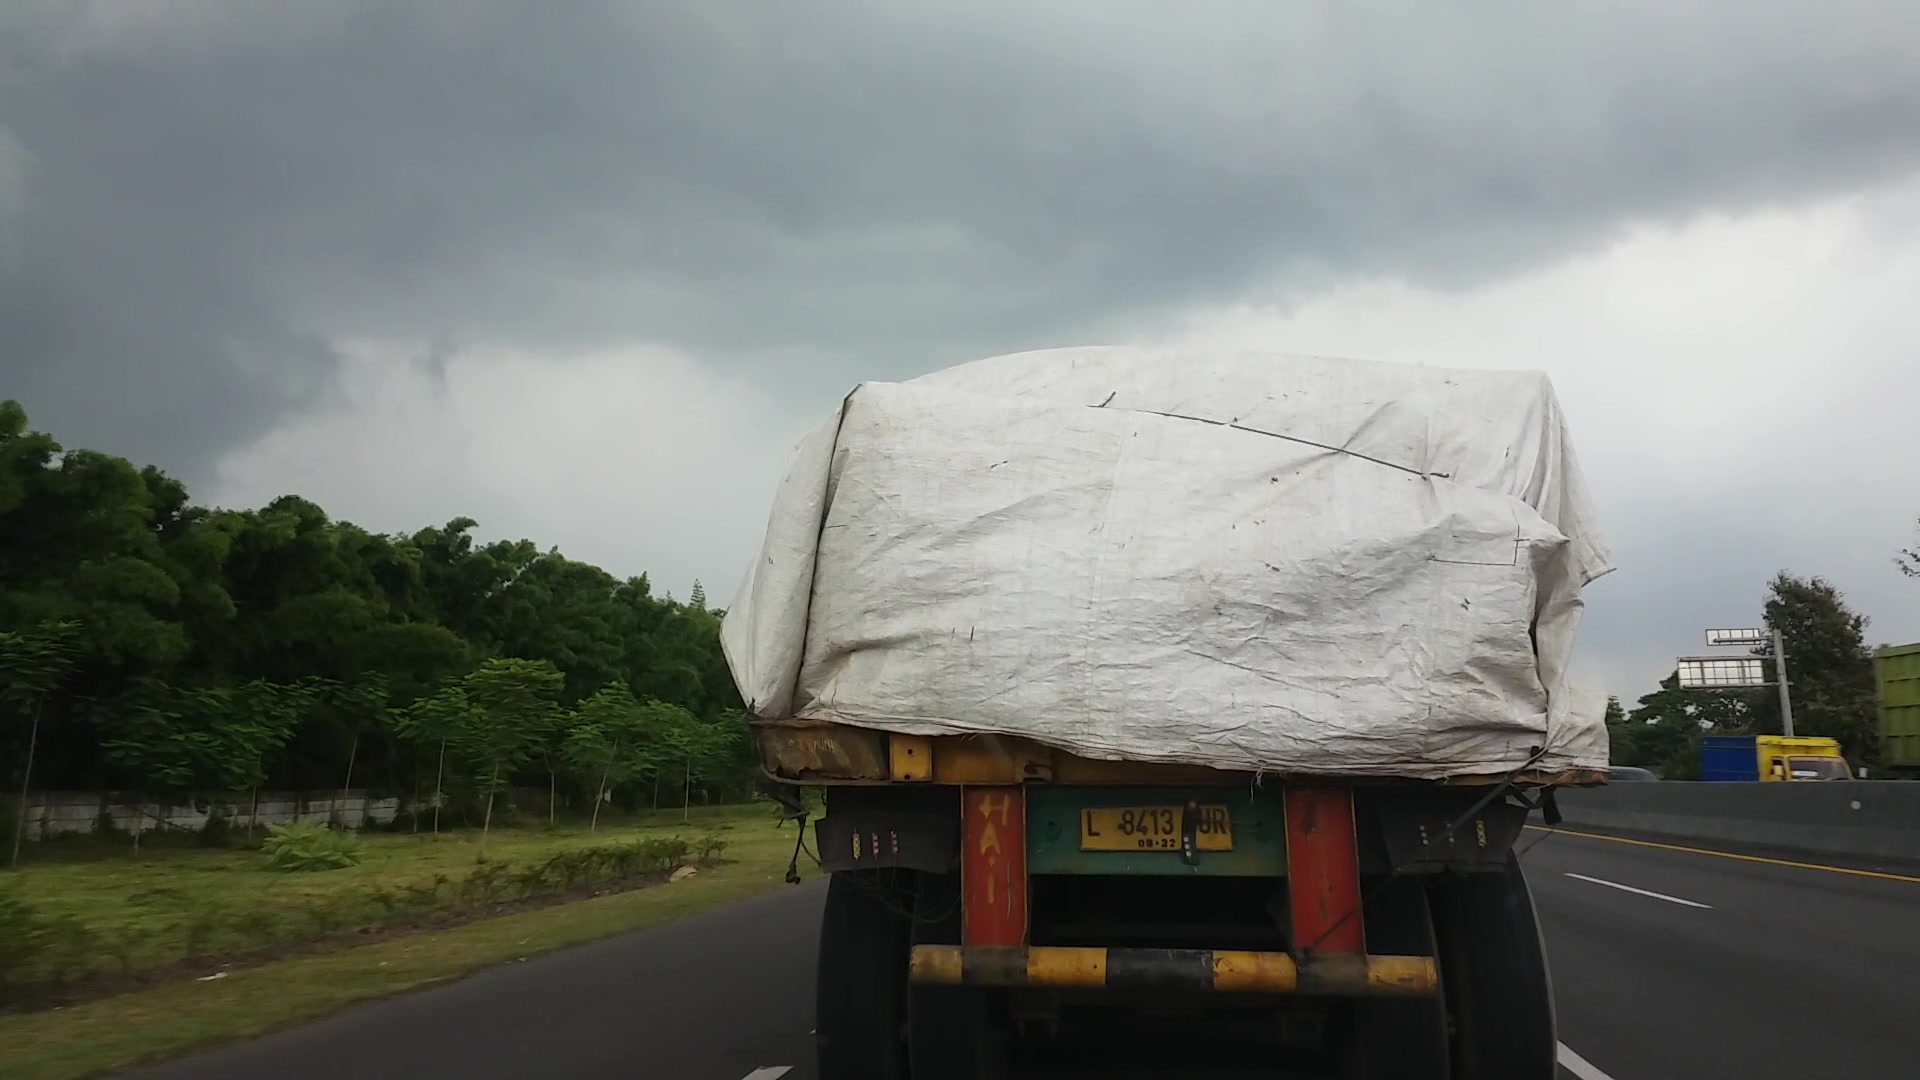plate_positive: (1080, 804, 1232, 852)
